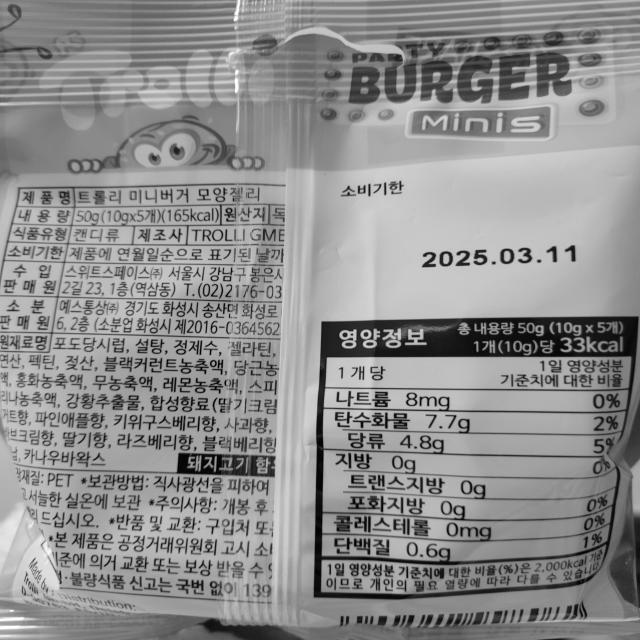Nutrition Label: (311, 313, 640, 606)
